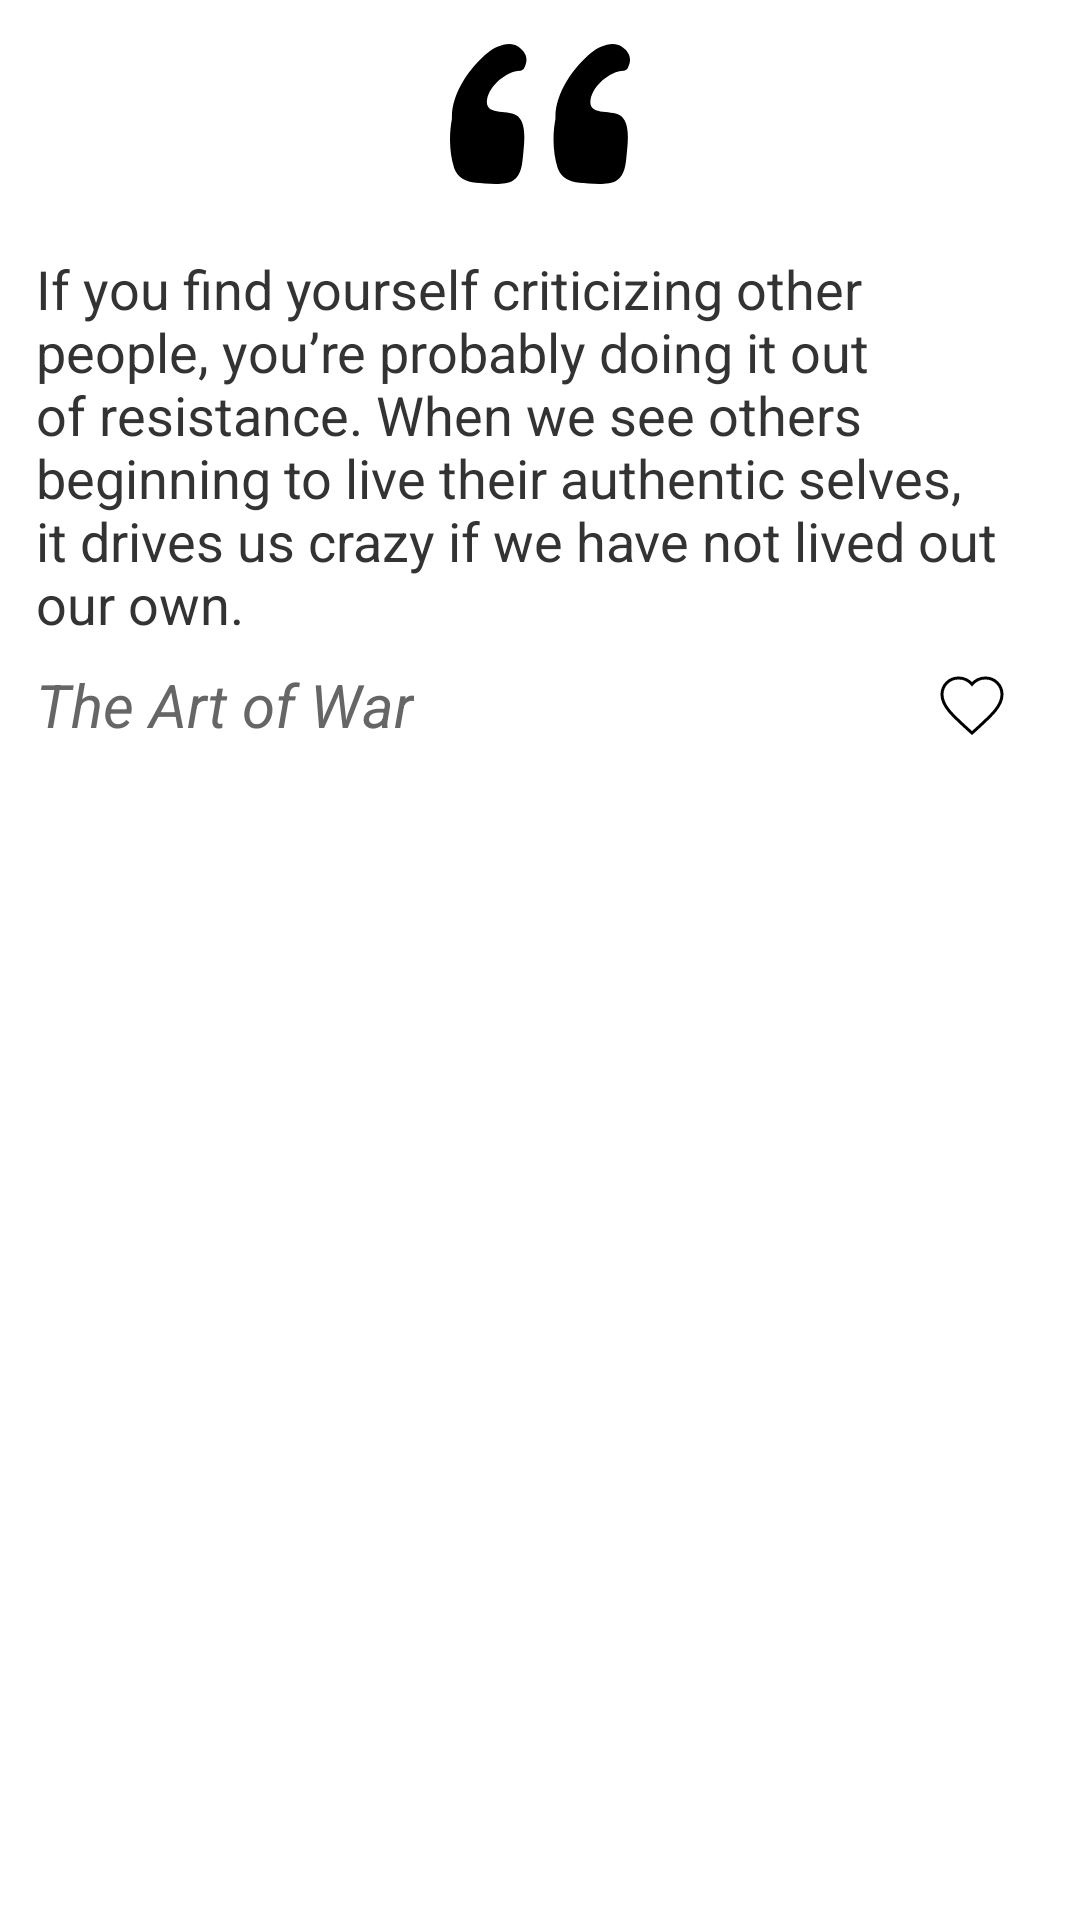

Where icons sit on this 1080 x 1920 app screen, as (x1, y1, x2, y2):
like: (940, 676, 1004, 735)
quotation mark: (450, 44, 630, 184)
